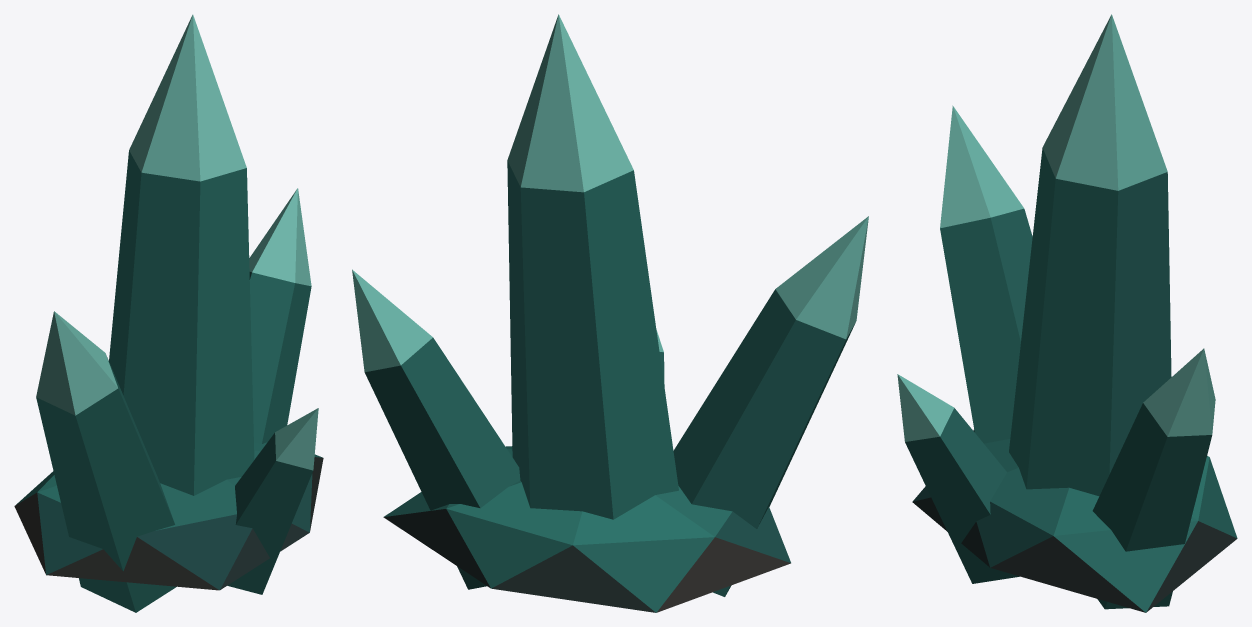
The model's file is prop_demon_crystal.glb.
The picture shows the model from 3 angles, left to right: view 1: azimuth 30°, elevation 25°; view 2: azimuth 150°, elevation 25°; view 3: azimuth 270°, elevation 25°; orthographic projection. The views are drawn at different scales.
Visible parts, largest first — view 1: prop_demon_crystal; view 2: prop_demon_crystal; view 3: prop_demon_crystal.
Boxes of the visible parts, box(x1,y1,x2,y2) form: prop_demon_crystal: box(14, 14, 323, 612); prop_demon_crystal: box(352, 14, 868, 612); prop_demon_crystal: box(897, 14, 1237, 612).
Bounding box in the file's own units: 0.7064 × 0.9954 × 0.5403.
